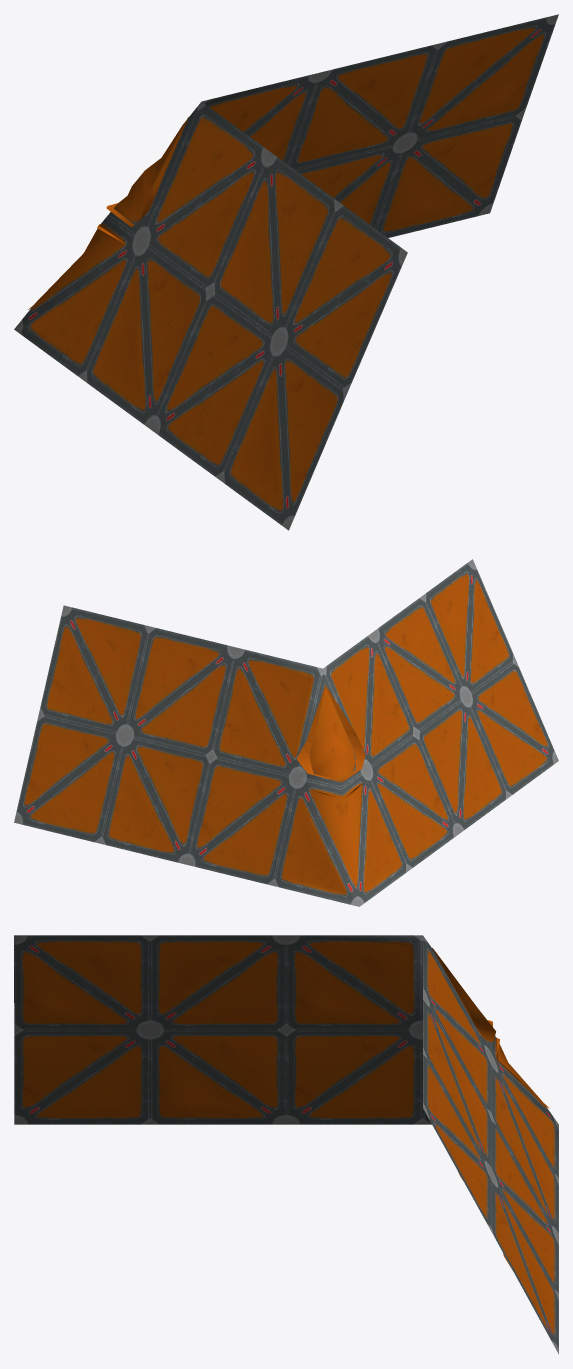
The model's file is TopPadded_Incline_Curve_Square_Inner.glb.
The picture shows the model from 3 angles, top to bottom: view 1: azimuth 30°, elevation 25°; view 2: azimuth 150°, elevation 25°; view 3: azimuth 270°, elevation 25°; orthographic projection. The views are drawn at different scales.
Visible parts, largest first — view 1: TopPadded_Incline_Curve_Square_Inner; view 2: TopPadded_Incline_Curve_Square_Inner; view 3: TopPadded_Incline_Curve_Square_Inner.
Boxes of the visible parts, x1,y1,x2,y2 form: TopPadded_Incline_Curve_Square_Inner: [14, 14, 558, 530]; TopPadded_Incline_Curve_Square_Inner: [14, 559, 558, 906]; TopPadded_Incline_Curve_Square_Inner: [14, 935, 558, 1354].
Size of the model in its own units: 4 by 2 by 4.
1 material, 1 textured.
